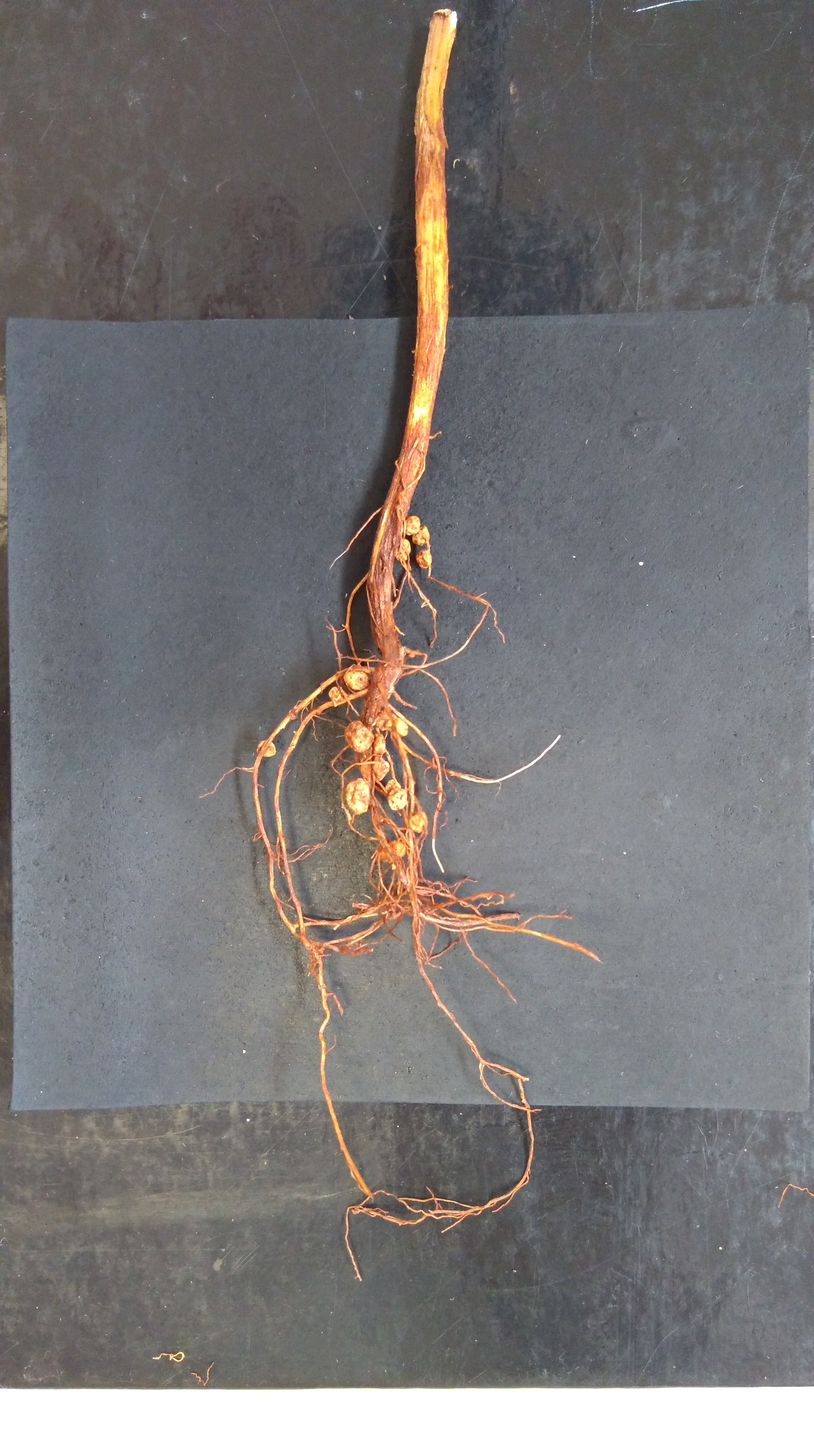nodule: (343, 719, 375, 753), (344, 777, 371, 816), (358, 754, 391, 782), (342, 669, 371, 691), (387, 787, 409, 812), (409, 810, 429, 834), (394, 538, 411, 563), (411, 525, 431, 546), (370, 732, 387, 756), (386, 839, 407, 858), (404, 514, 421, 537), (415, 549, 433, 570), (393, 716, 410, 738), (257, 740, 277, 758), (327, 686, 344, 703), (376, 845, 393, 861), (384, 779, 402, 794)
